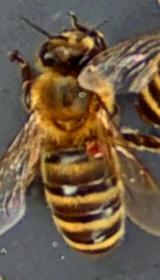varroa_mite: (77, 131, 115, 168)
